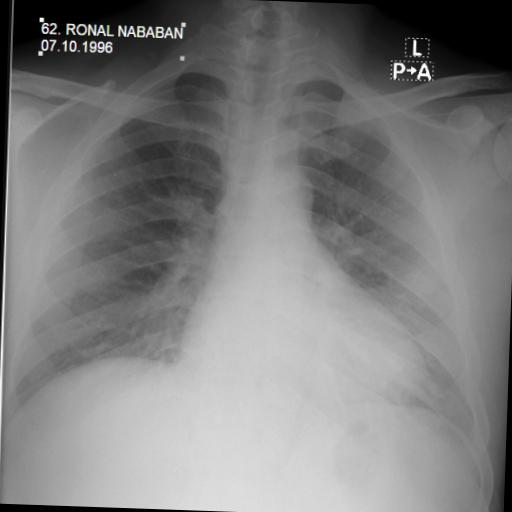kardiomegali: (0, 35, 509, 464)
